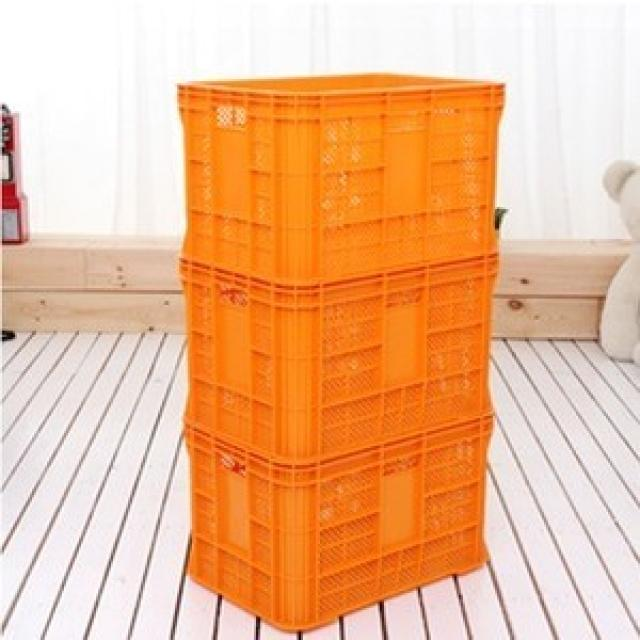basket: (177, 403, 494, 640), (178, 70, 508, 286), (181, 251, 503, 466)
